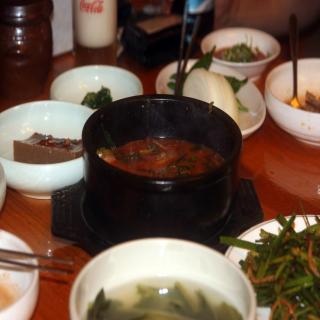Salad: (218, 198, 320, 320)
